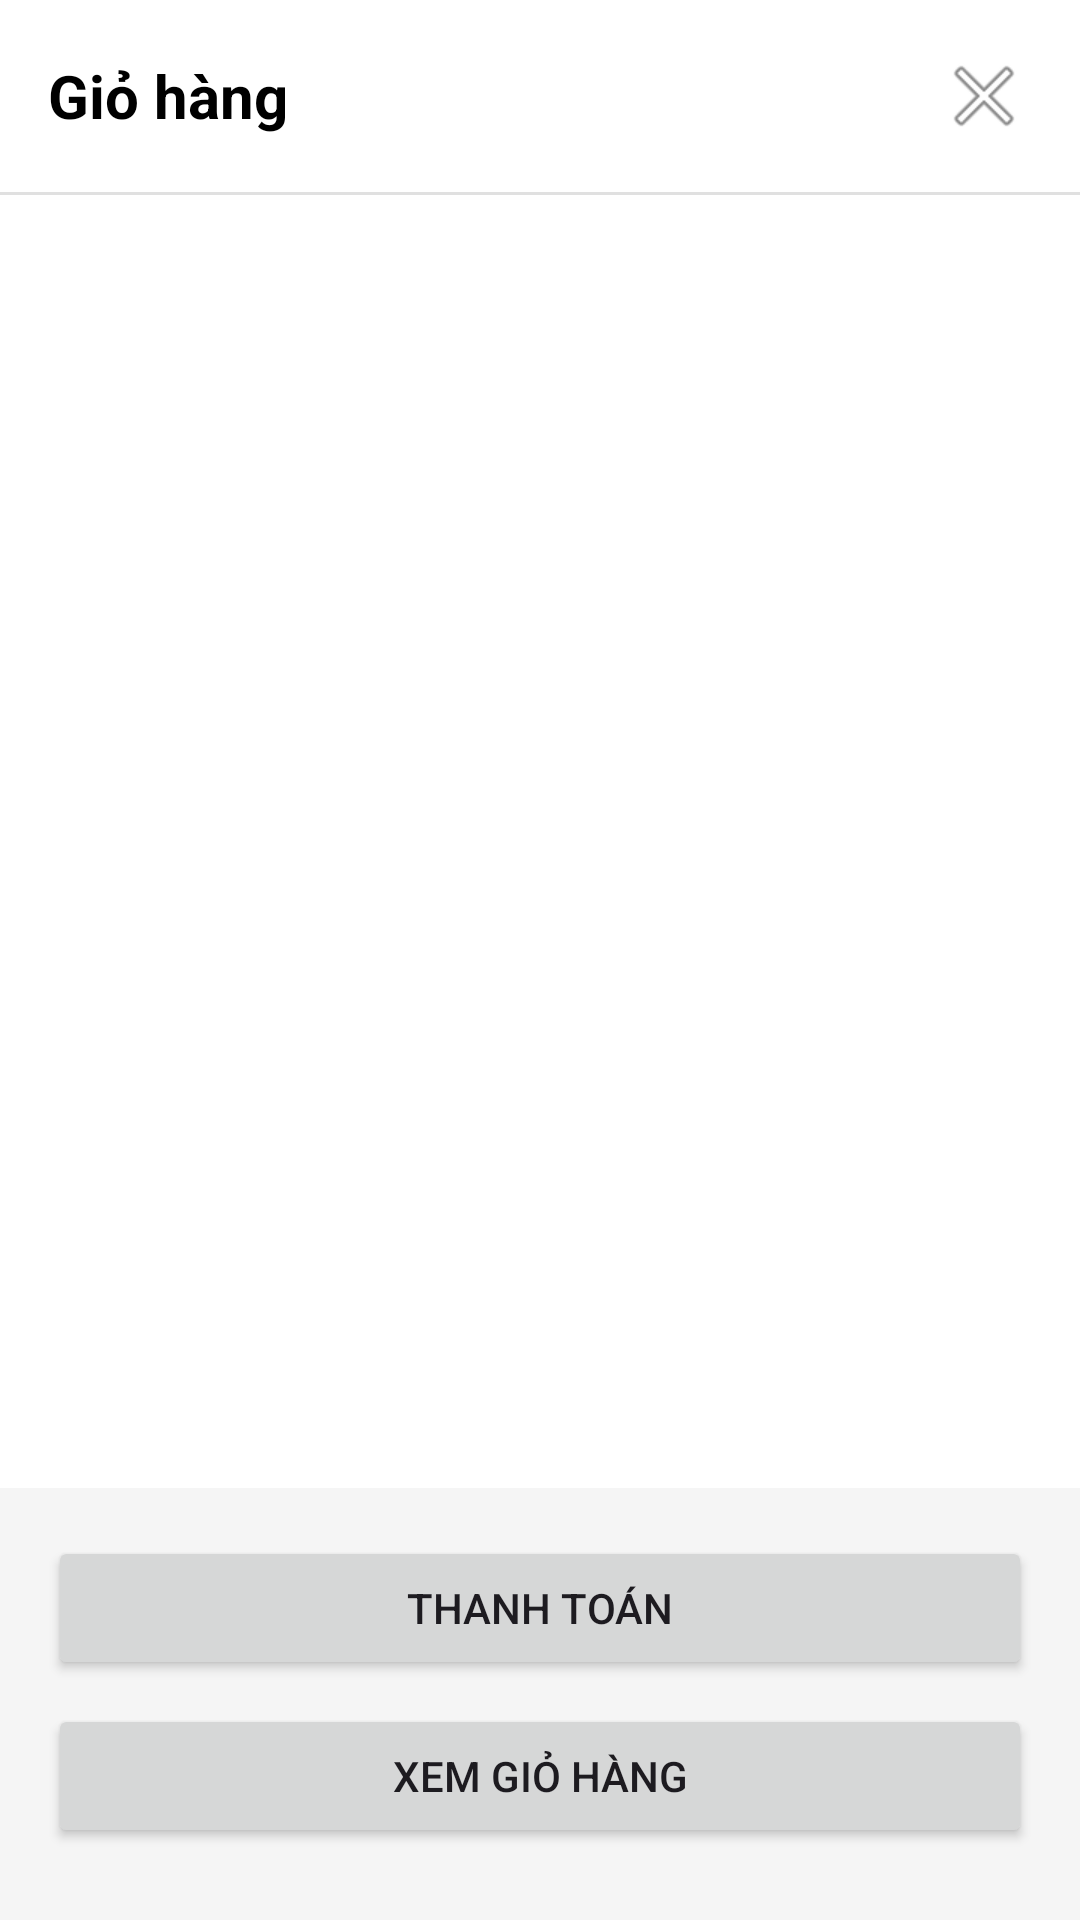

Icon bounding boxes for this 1080px x 1920px phone screenshot, format (x1, y1, x2, y2):
Đóng: (954, 66, 1014, 126)
